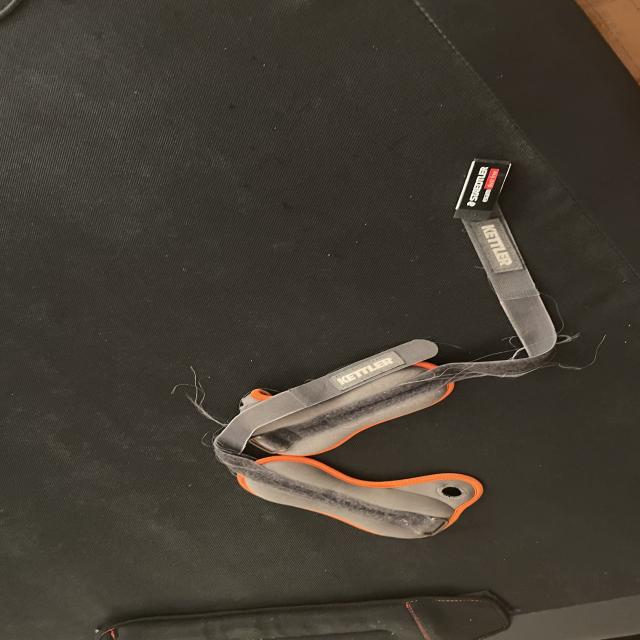eraser: (454, 158, 511, 221)
